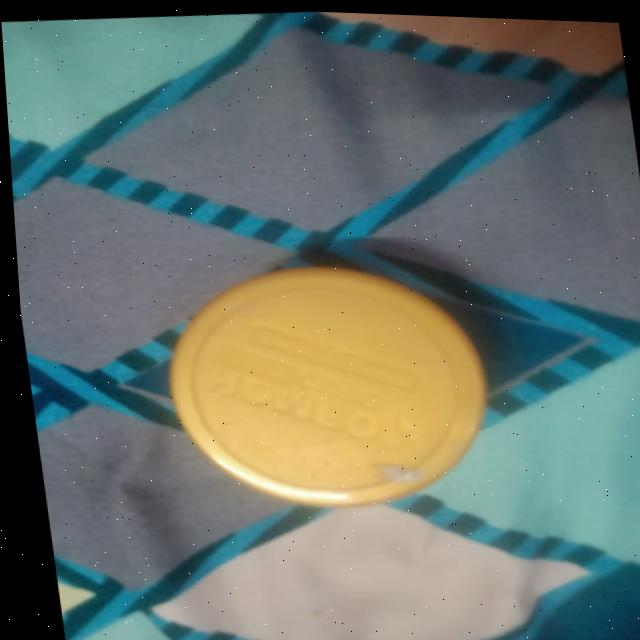powder: (128, 231, 515, 536)
